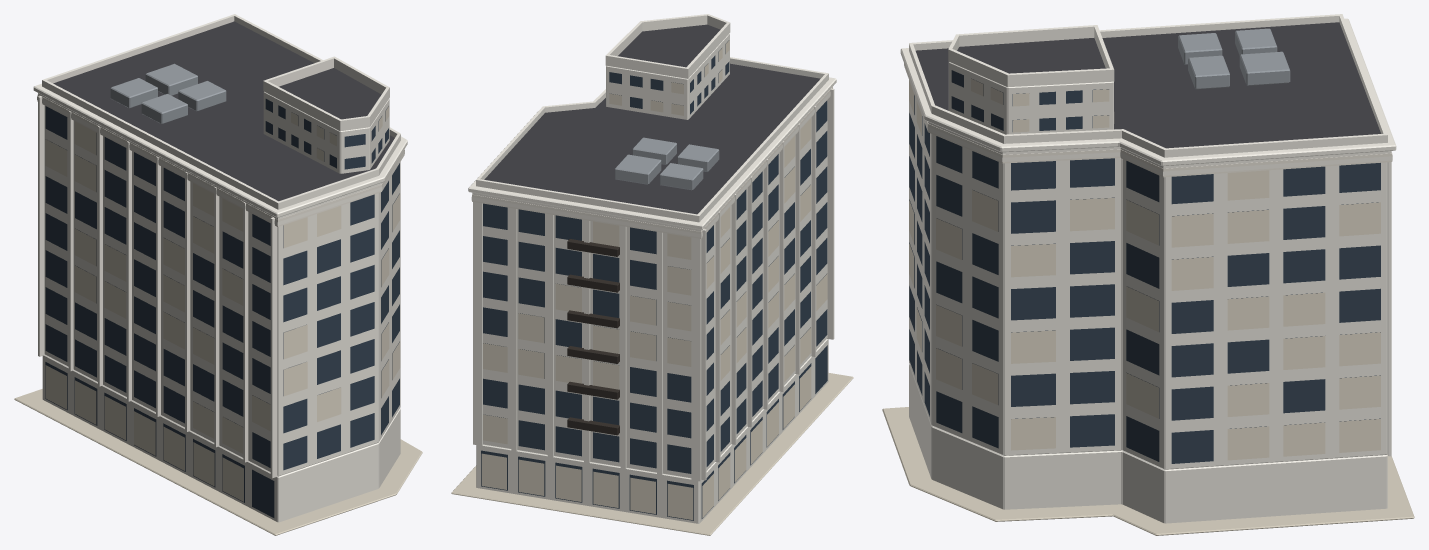
Rendered from i-magnin-building.glb.
3 views of the same model, side by side, from view 1: azimuth 30°, elevation 25°; view 2: azimuth 150°, elevation 25°; view 3: azimuth 270°, elevation 25° (orthographic). The views are drawn at different scales.
Visible parts, largest first — view 1: i-magnin-building_body, i-magnin-building_night_glow; view 2: i-magnin-building_body, i-magnin-building_night_glow; view 3: i-magnin-building_body, i-magnin-building_night_glow.
Part boxes in pixels (box(x1,y1,x2,y2)): i-magnin-building_body: box(14, 14, 422, 535); i-magnin-building_night_glow: box(37, 96, 404, 501); i-magnin-building_body: box(451, 14, 853, 535); i-magnin-building_night_glow: box(471, 40, 830, 519); i-magnin-building_body: box(882, 14, 1414, 535); i-magnin-building_night_glow: box(904, 63, 1392, 460).
Size of the model in its own units: 39.68 by 50.5 by 56.52.
